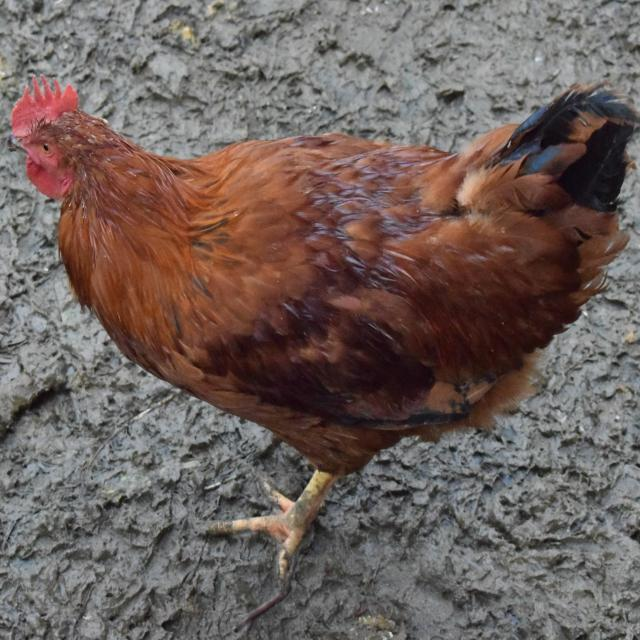cook: (3, 77, 638, 583)
